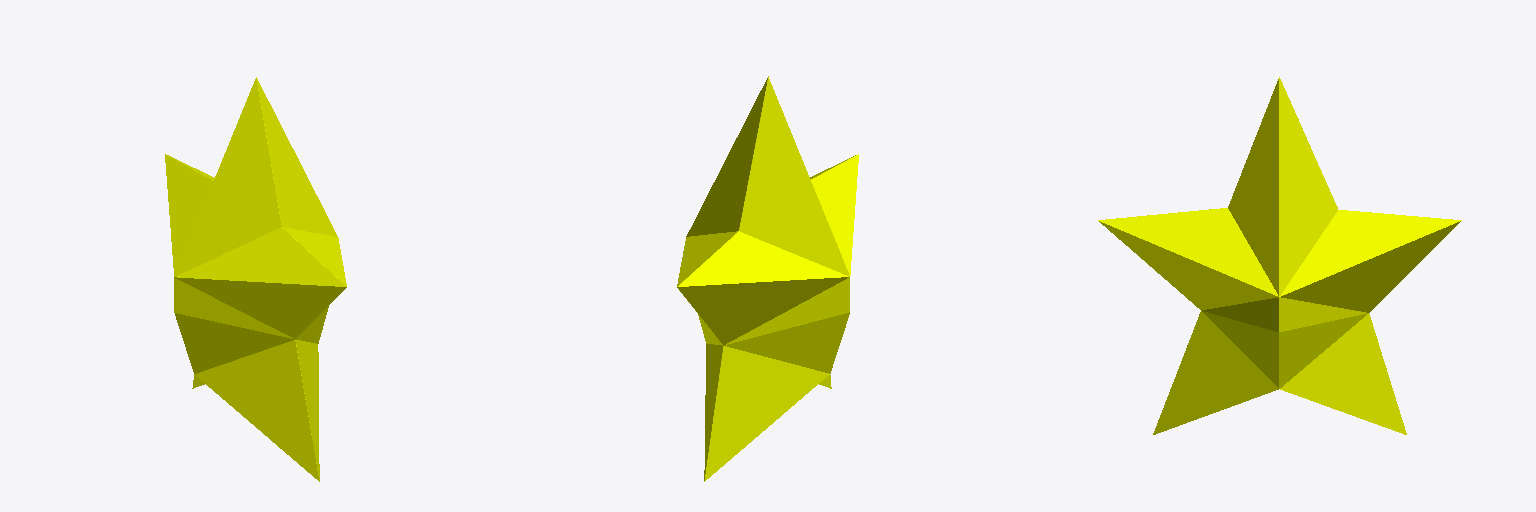
3 renders of one model, left to right at view 1: azimuth 30°, elevation 25°; view 2: azimuth 150°, elevation 25°; view 3: azimuth 270°, elevation 25°, orthographic.
Parts seen in each view (by area): view 1: pCube1; view 2: pCube1; view 3: pCube1.
Part boxes in pixels (x1,y1,x2,y2): pCube1: (165, 77, 346, 481); pCube1: (677, 76, 858, 481); pCube1: (1098, 77, 1461, 434).
Size of the model in its own units: 0.4783 by 1 by 0.9204.
1 materials, 1 textured.